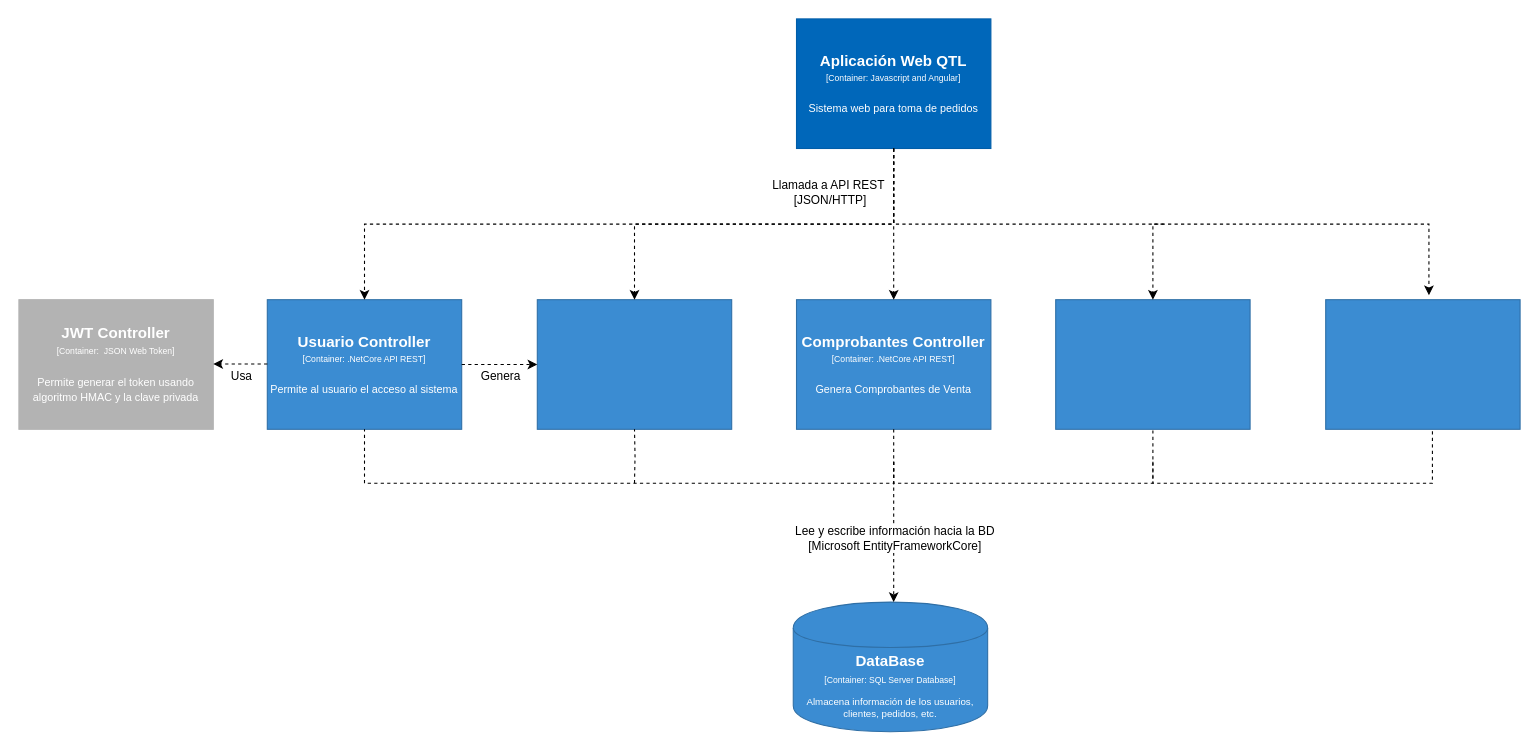
This 1539x751 diagram has some shape labels left out. Here are the shapes that lost their labels. From the top down, the centre of each, then its label:
(634,364): Pedidos Controller [Container:.NetCore API REST] Genera/Edita Pedidos
(1152,364): Clientes Controller [Container: .NetCore API REST] Crea/Actualiza Clientes
(1422,364): Productos Controller [Container: .NetCore API REST] Lista Productos
